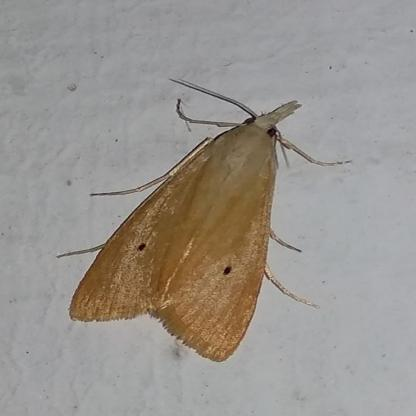stem-borer: (54, 76, 358, 362)
